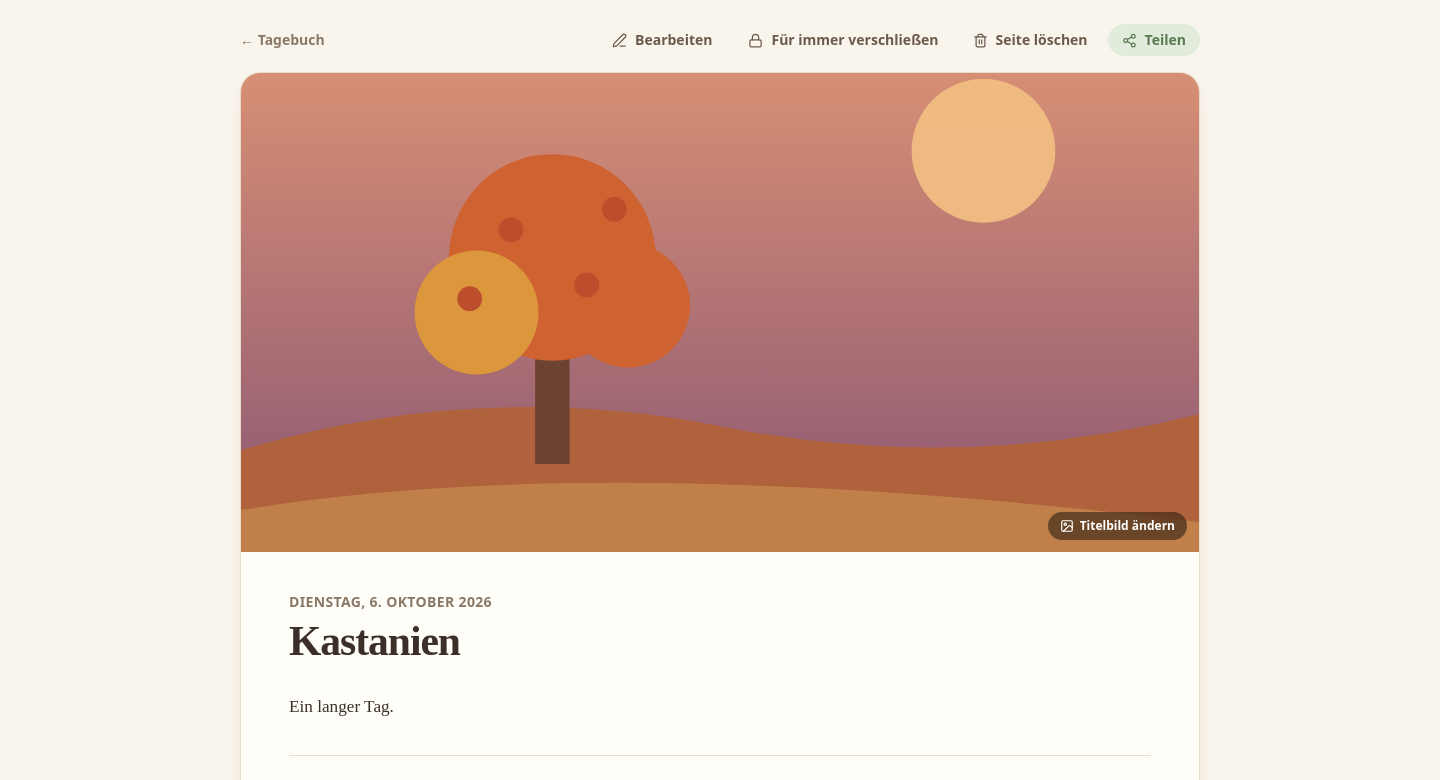
it: deleting the page › asks first, names who loses the share, and stays on the day, which is gone then
Click the button "Seite löschen": click(1030, 40) [961,24,1100,56]
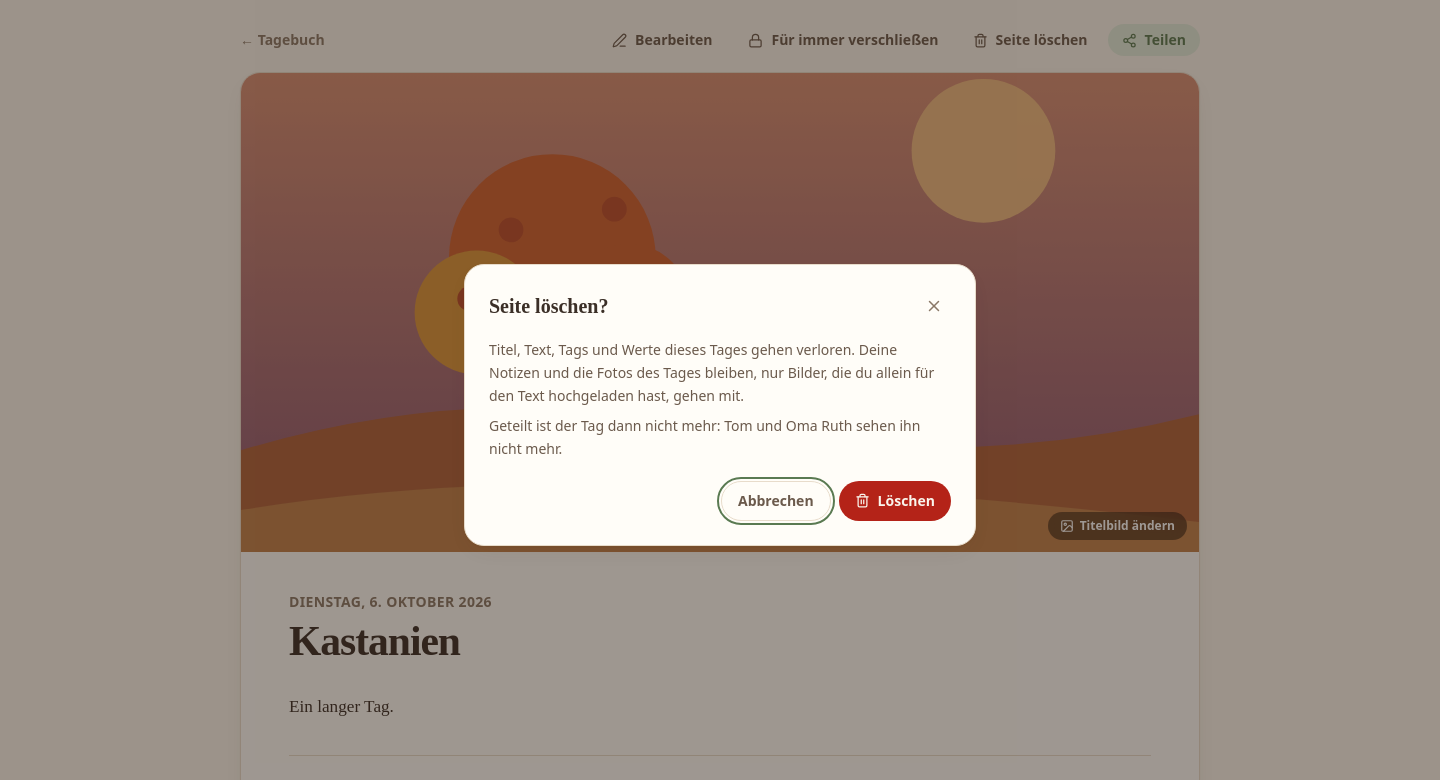
Expected: the dialog shows "Titel, Text, Tags und Werte dieses Tages gehen verloren.", [489,340,934,405]
Expected: the text "Geteilt ist der Tag dann nicht mehr: Tom und Oma Ruth sehen ihn nicht mehr." is shown, [489,415,951,461]
Click the button "Abbrechen": click(776, 501) [721,481,831,521]
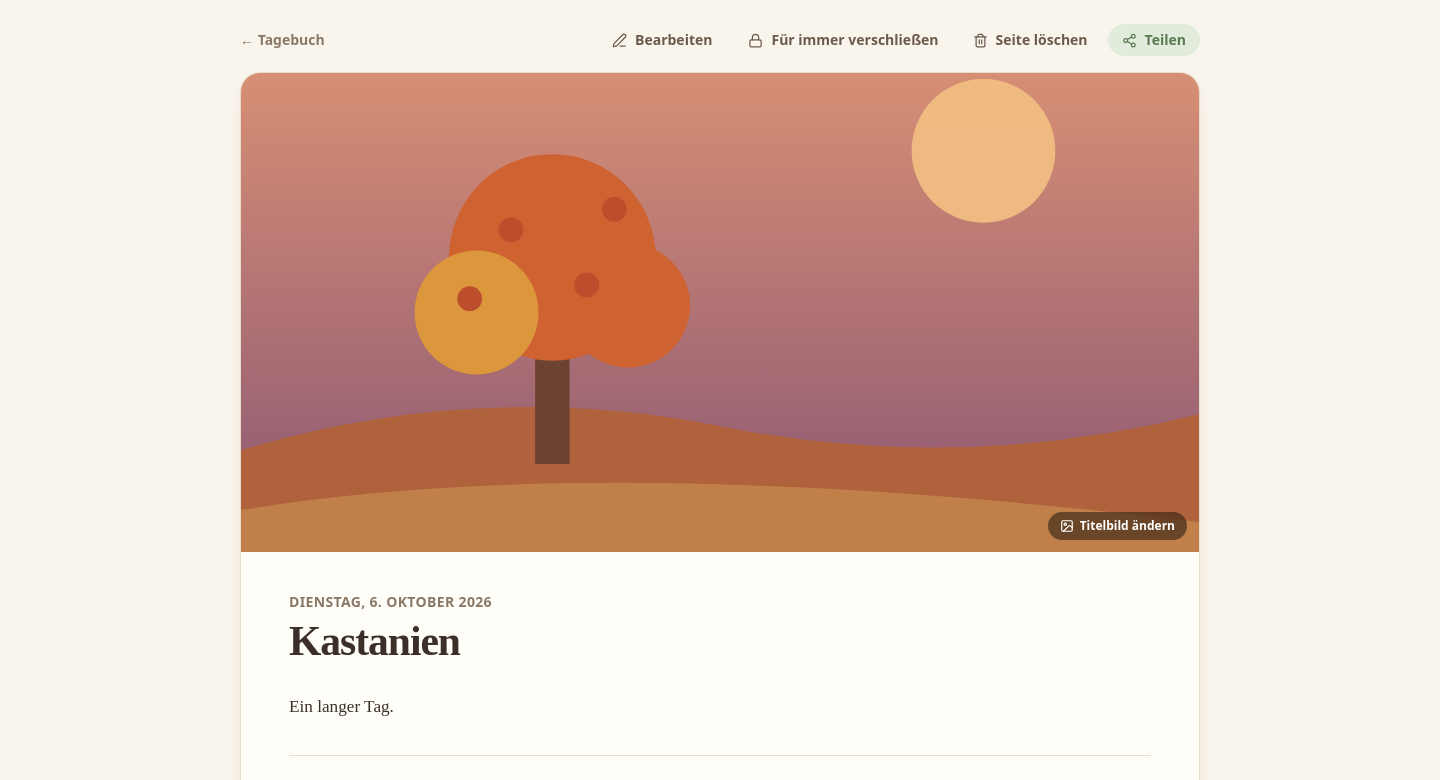
Click the button "Seite löschen": click(1030, 40) [961,24,1100,56]
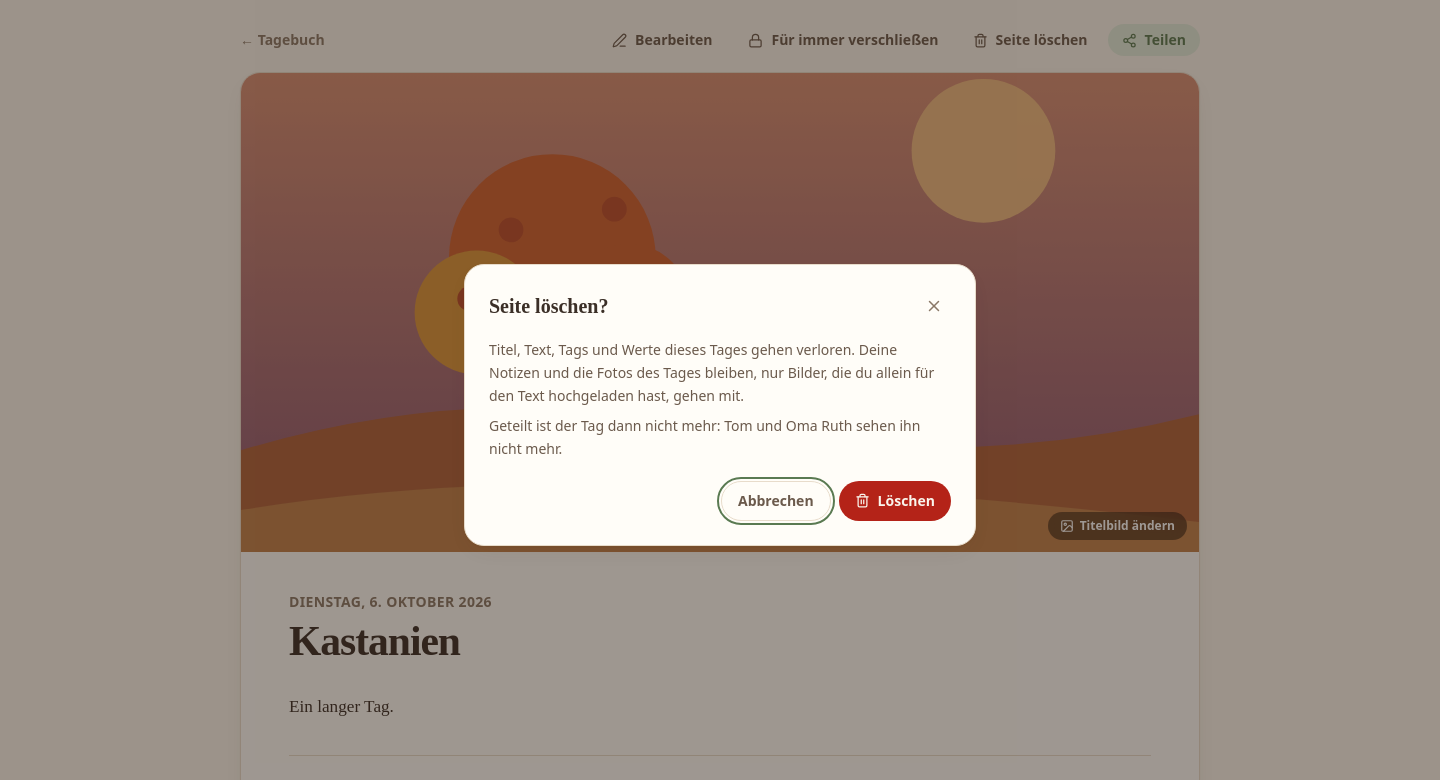
Click the button "Löschen": click(895, 501) [839,481,951,521]
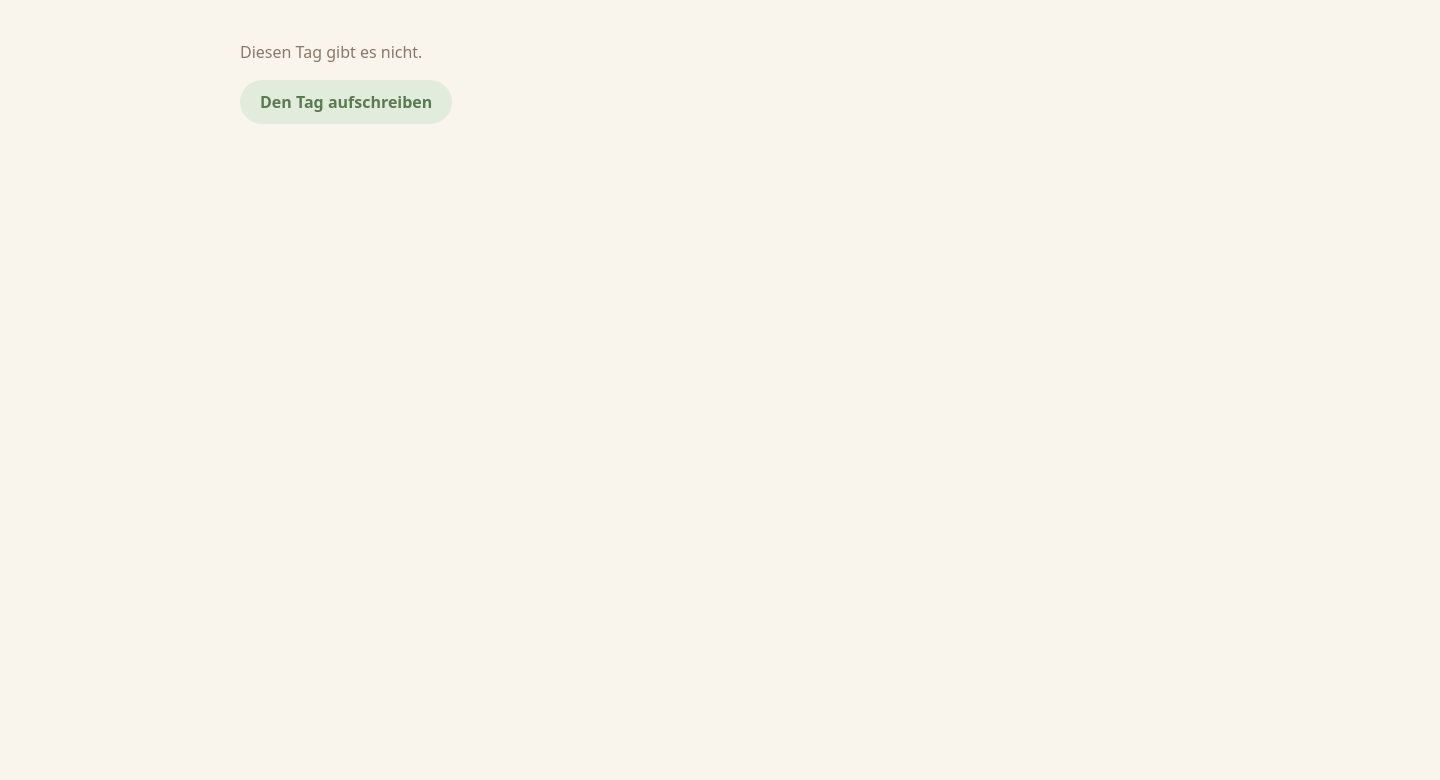
Expected: the text "Diesen Tag gibt es nicht." is shown, [240,41,422,63]
